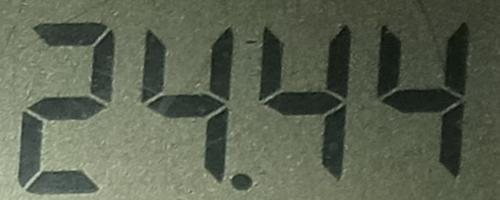.: (230, 167, 254, 198)
